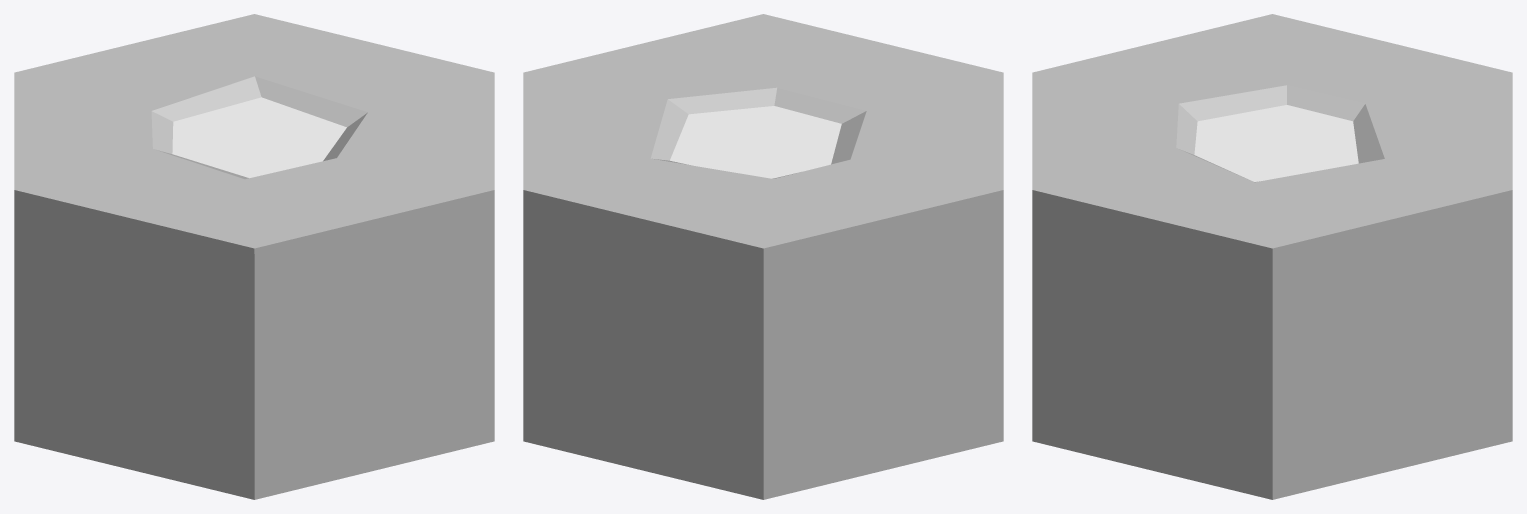
The model's file is Hexagon0_2.fbx.
The picture shows the model from 3 angles, left to right: view 1: azimuth 30°, elevation 25°; view 2: azimuth 150°, elevation 25°; view 3: azimuth 270°, elevation 25°; orthographic projection.
Visible parts, largest first — view 1: Hex0_2; view 2: Hex0_2; view 3: Hex0_2.
Boxes of the visible parts, x1,y1,x2,y2 form: Hex0_2: (14,14,494,499); Hex0_2: (523,14,1003,499); Hex0_2: (1032,14,1512,499).
Size of the model in its own units: 1000 by 500 by 866.
